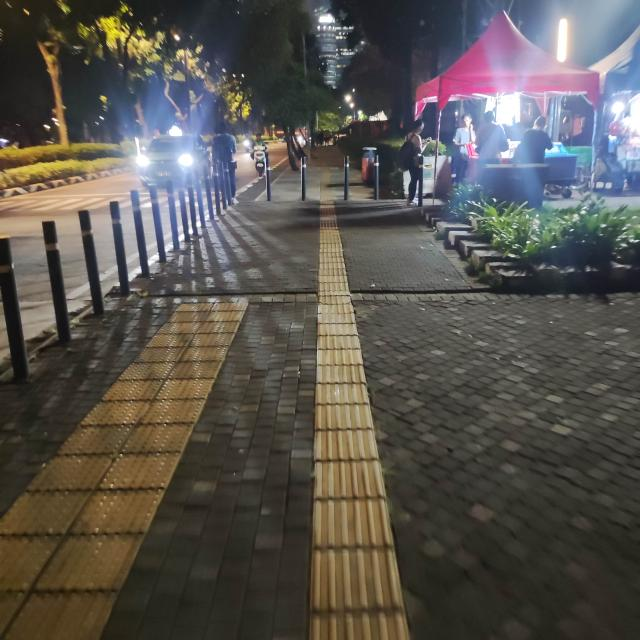lurus: (315, 229, 385, 640)
